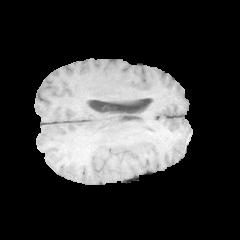glioma: (86, 133, 132, 177)
